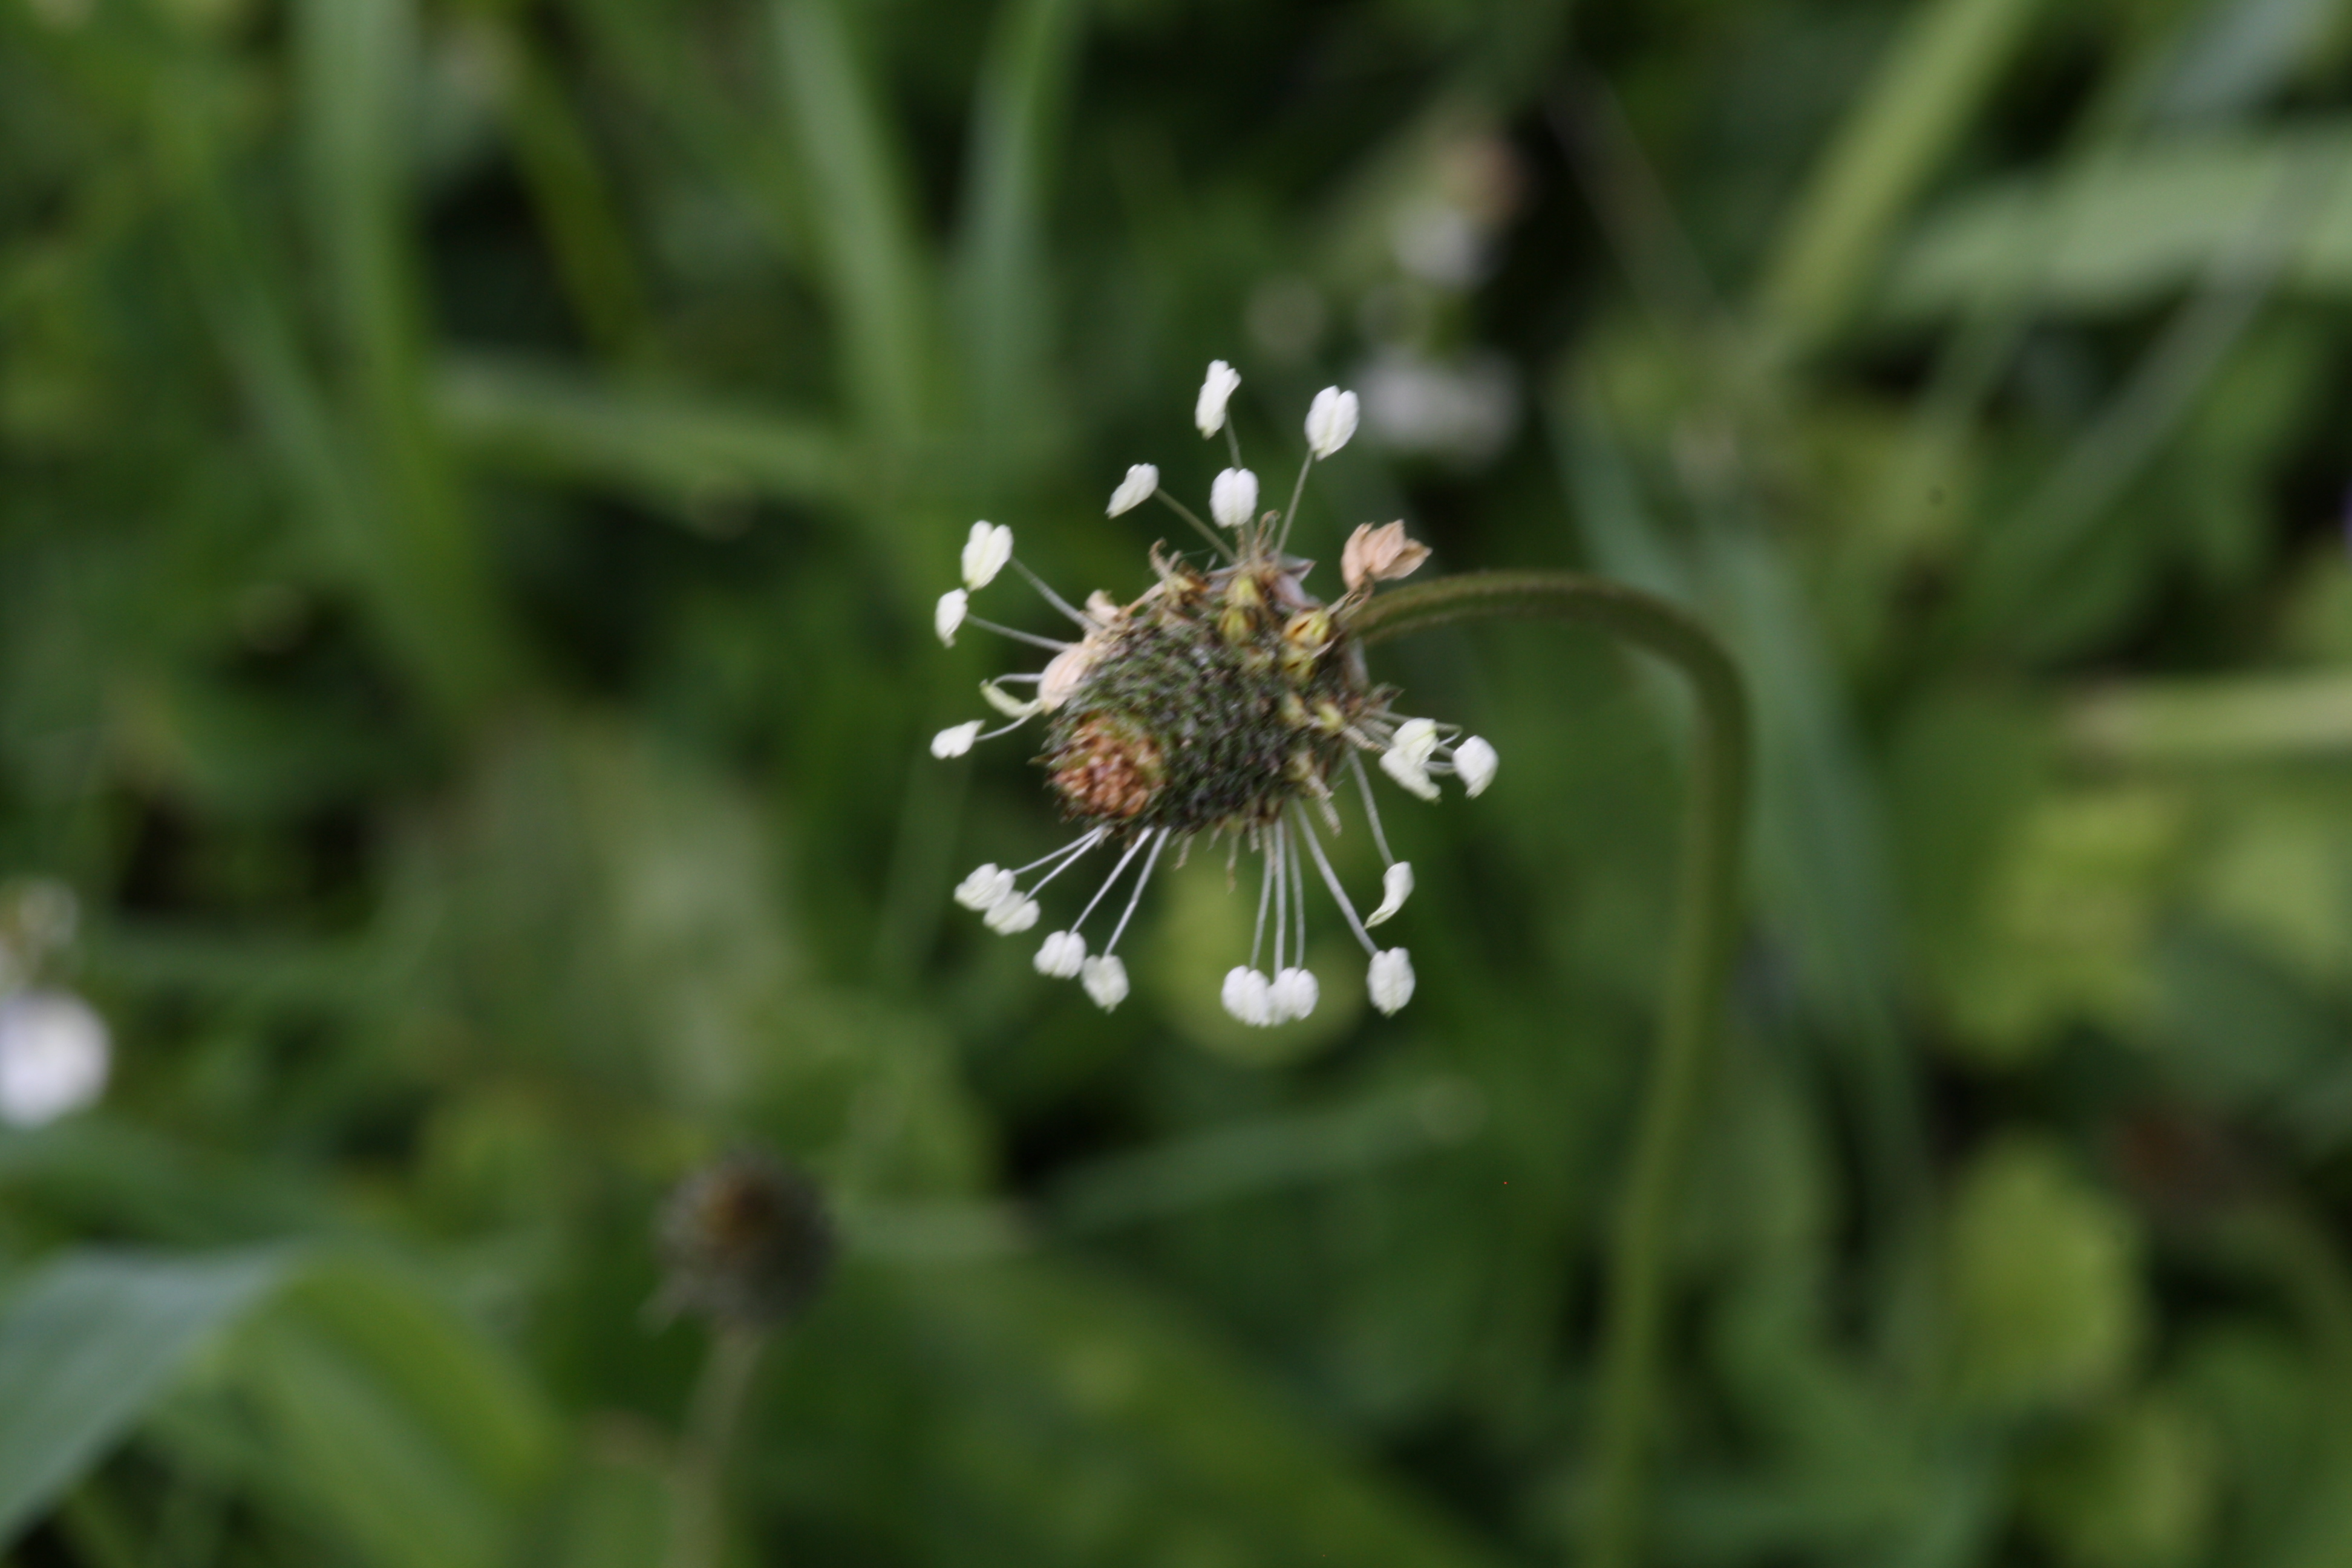buckhorn plantain: (940, 366, 1496, 1085)
